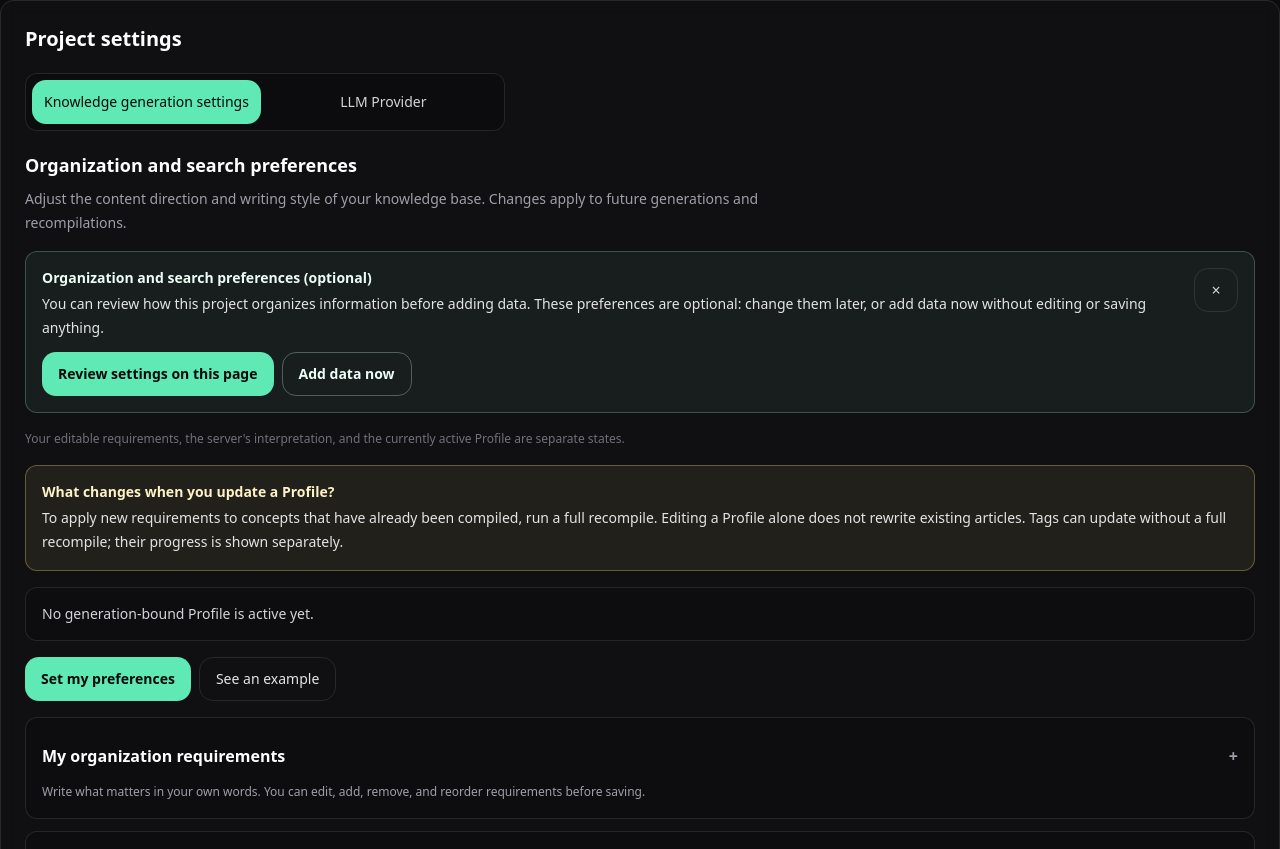
Test: LWC-406 optional Profile onboarding › opens the existing preferences card without navigating or saving
Check: the heading "Organization and search preferences (optional)" is shown, box left=42, top=268, right=372, bottom=287
Click the button "Review settings on this page": (158, 374) left=42, top=352, right=274, bottom=396
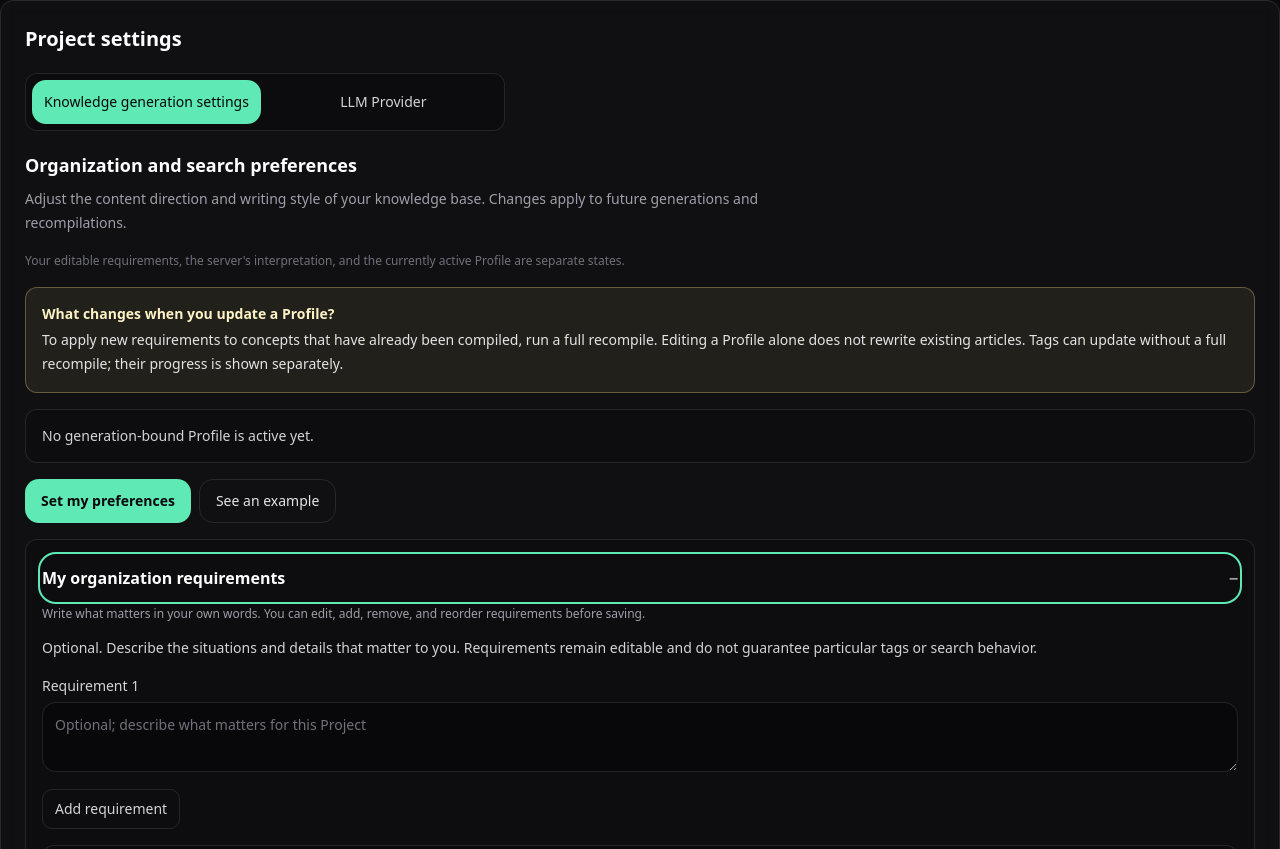
Check: the button "My organization requirements −" is expanded, box left=42, top=556, right=1238, bottom=600
